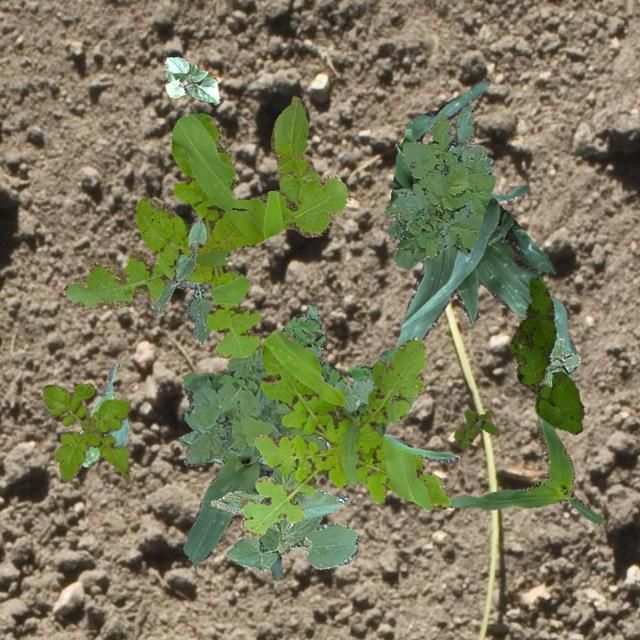crop: (208, 302, 460, 463), (394, 198, 576, 376), (390, 76, 528, 204), (448, 414, 602, 524), (210, 466, 358, 570), (178, 430, 280, 580), (270, 94, 318, 204), (80, 362, 128, 466), (163, 56, 220, 104), (173, 218, 204, 280)
weed: (61, 111, 348, 358), (238, 330, 451, 536), (182, 346, 376, 464), (384, 104, 494, 268), (279, 312, 413, 434), (508, 276, 582, 434), (42, 382, 130, 482), (150, 274, 212, 344), (542, 336, 580, 386), (452, 408, 497, 448)
